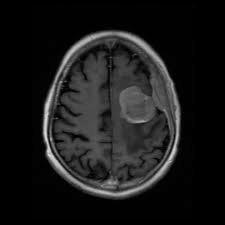Tumour-Meningioma: (105, 83, 167, 127)
